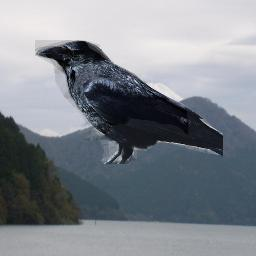Crow: (35, 40, 223, 164)
